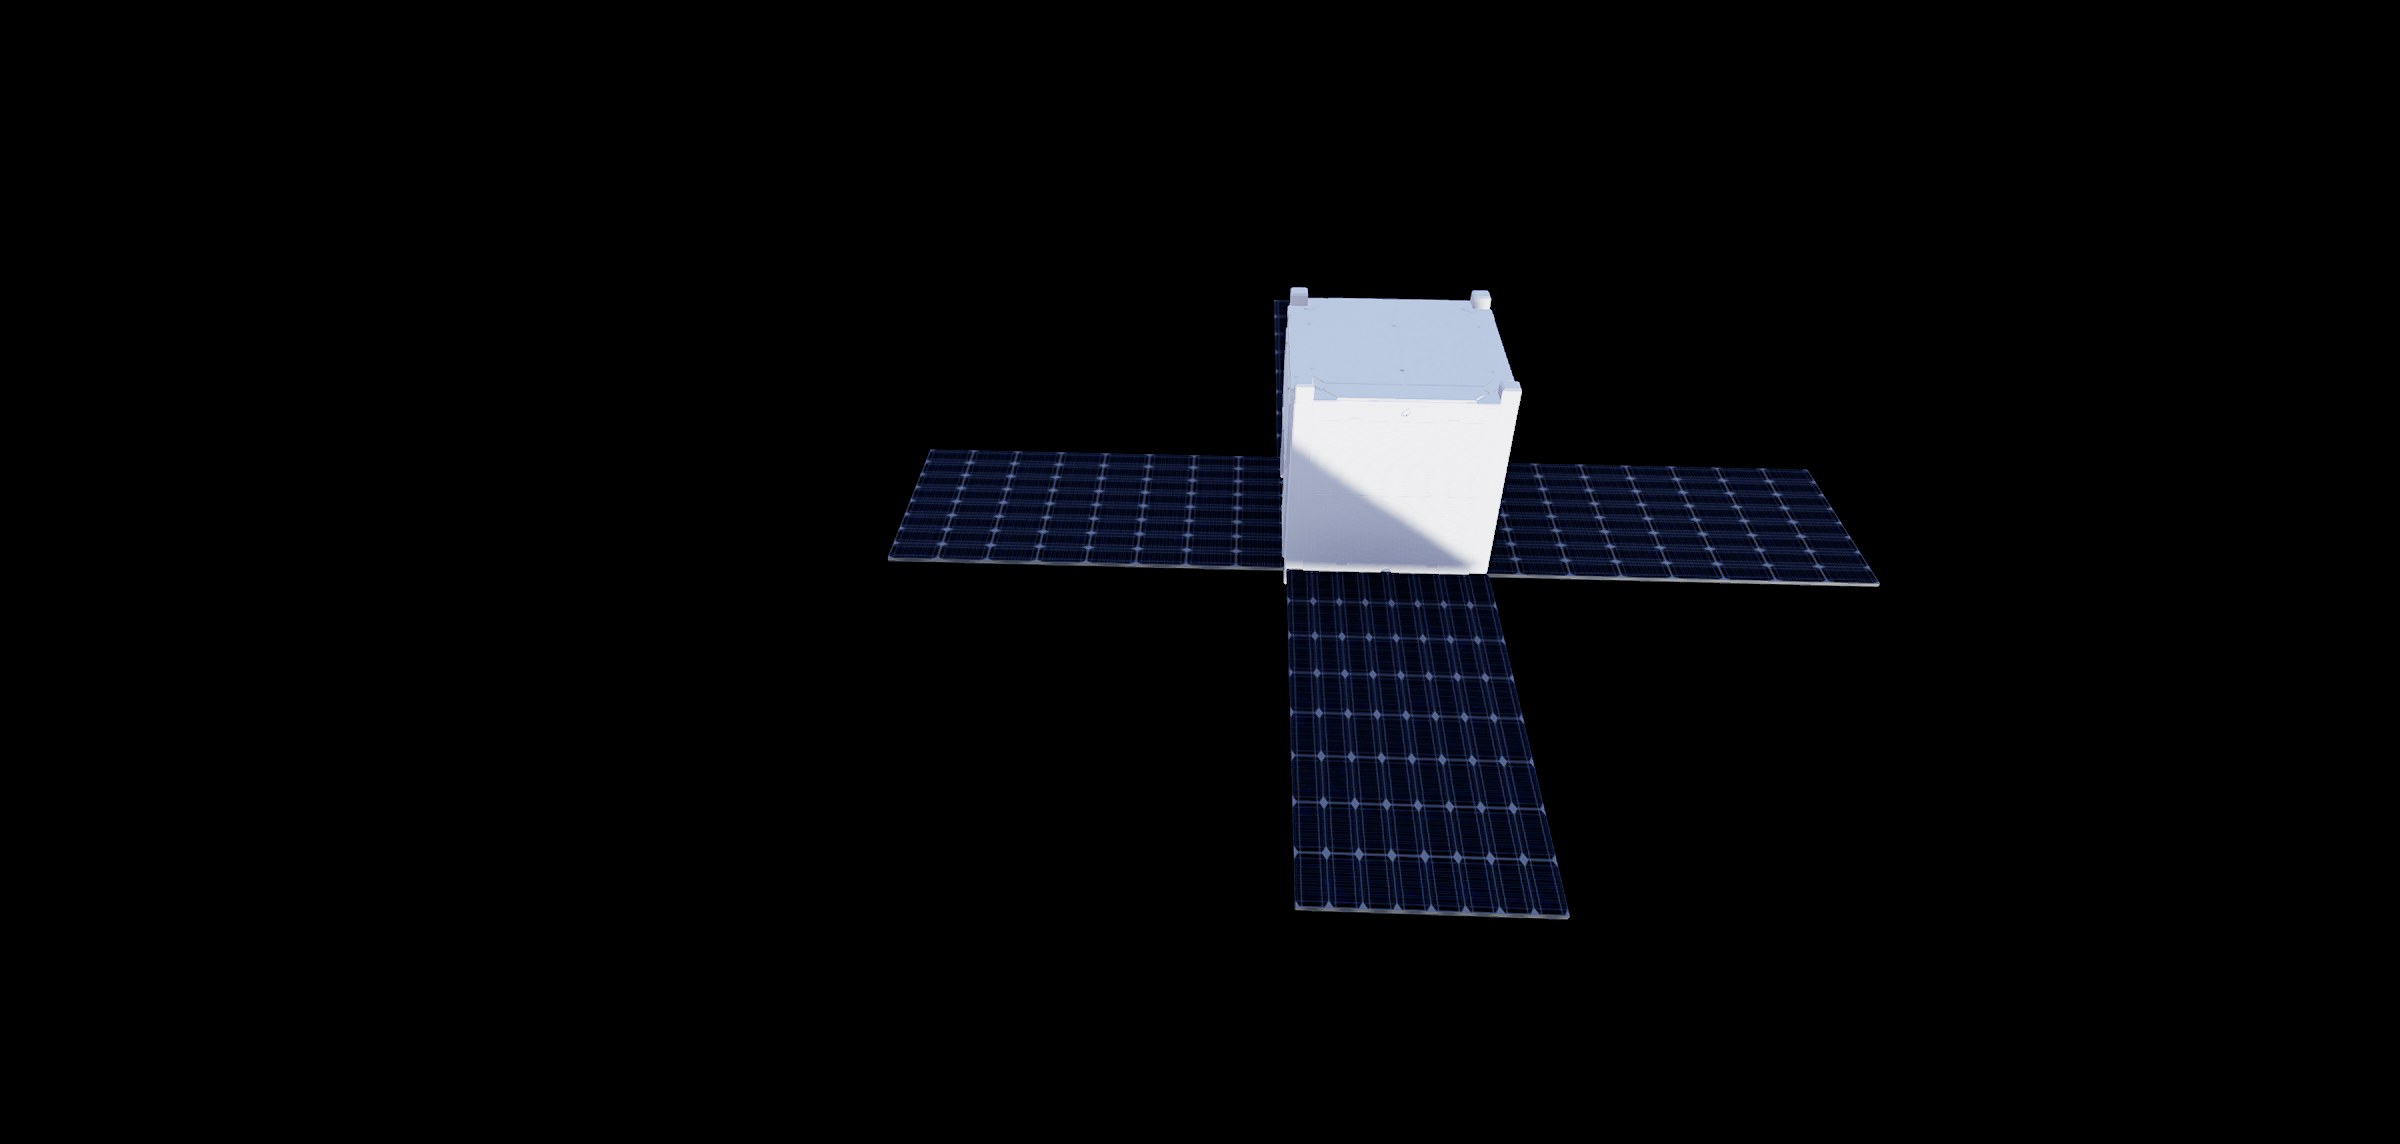satellite: (889, 175, 1907, 980)
